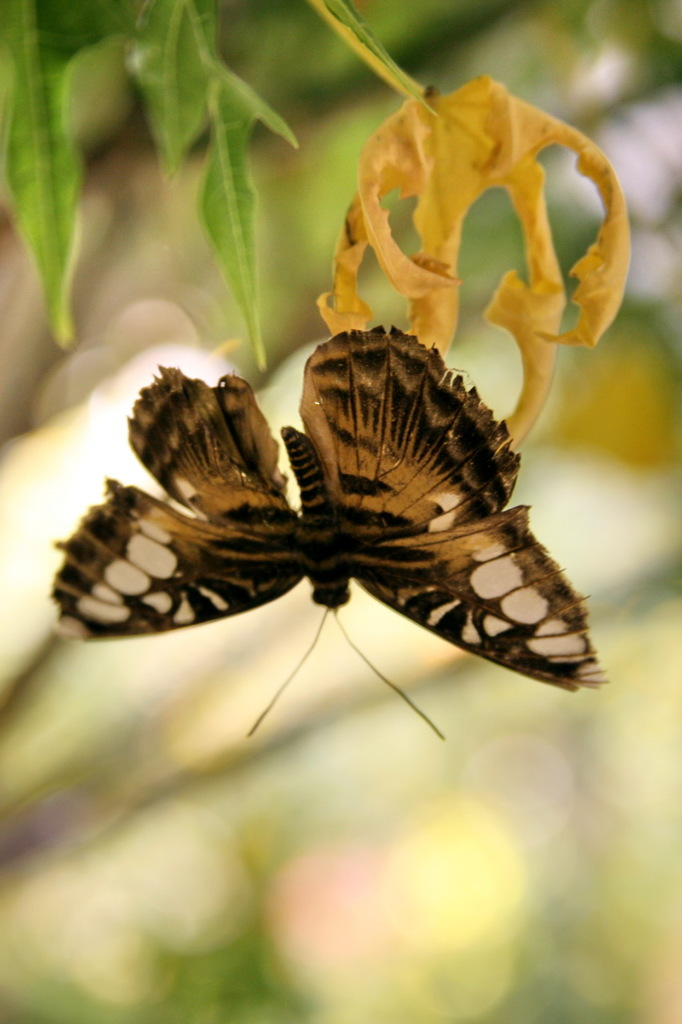Butterfly: (55, 317, 623, 720)
